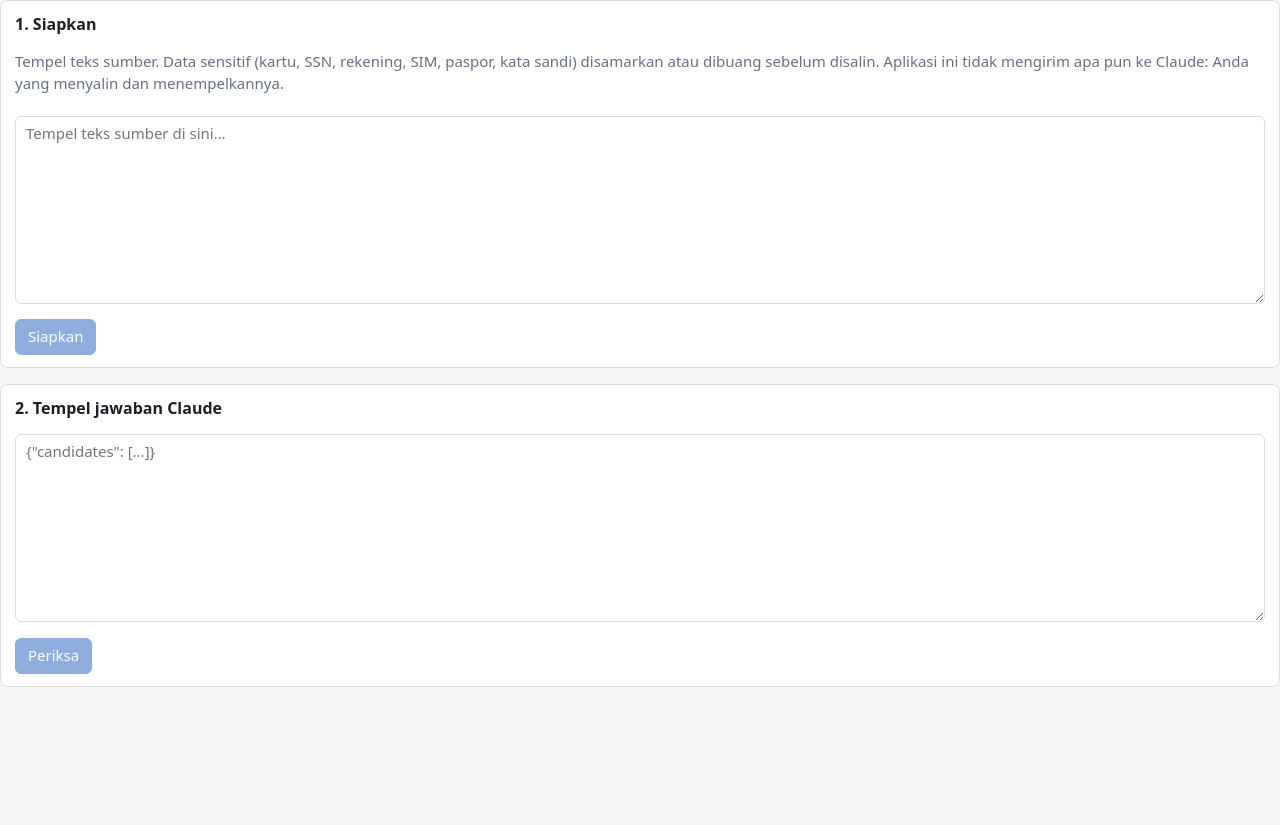
it: BridgeTab › tells the person when copying is not possible
Step 1. Type "src" into the text box labelled "teks sumber" → x=640, y=210, box [15,116,1265,304]
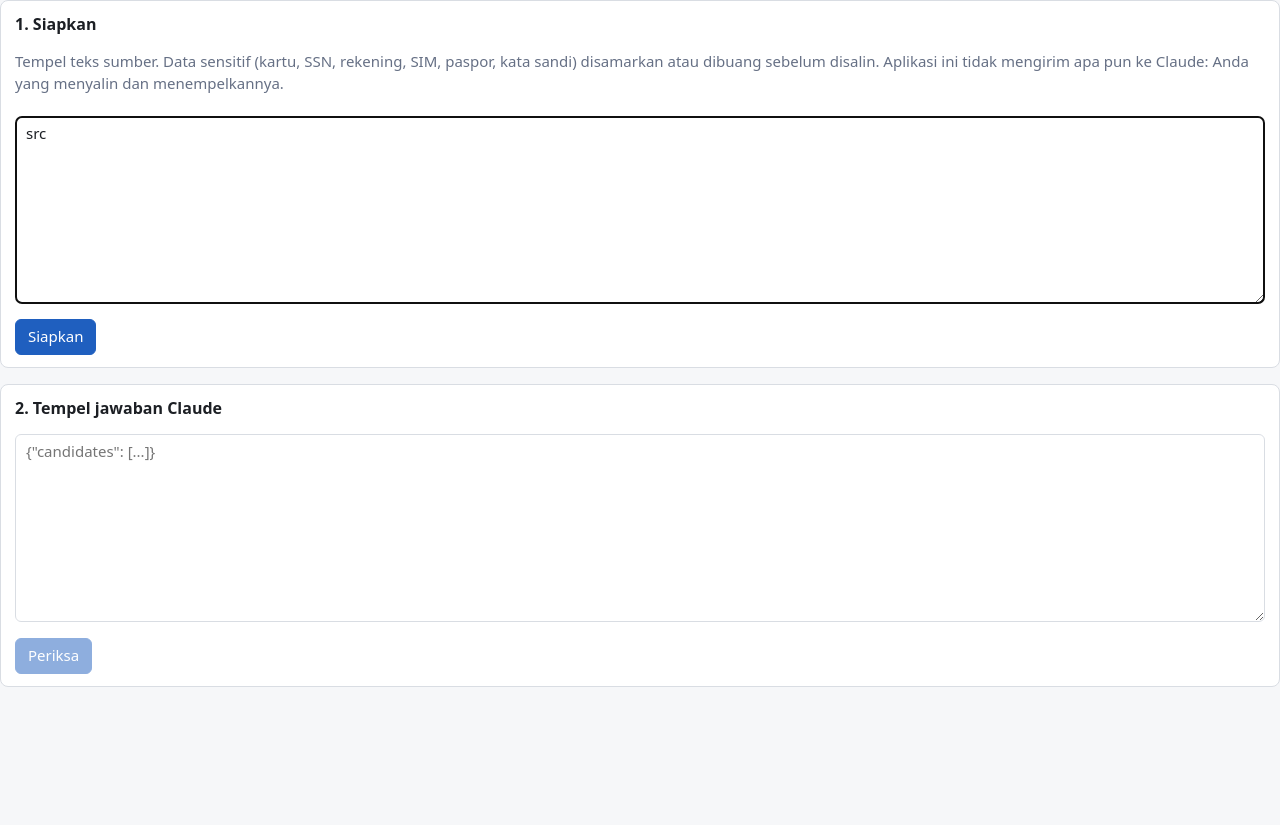
Step 2. Click the button "Siapkan" → x=56, y=337, box [15,319,96,355]
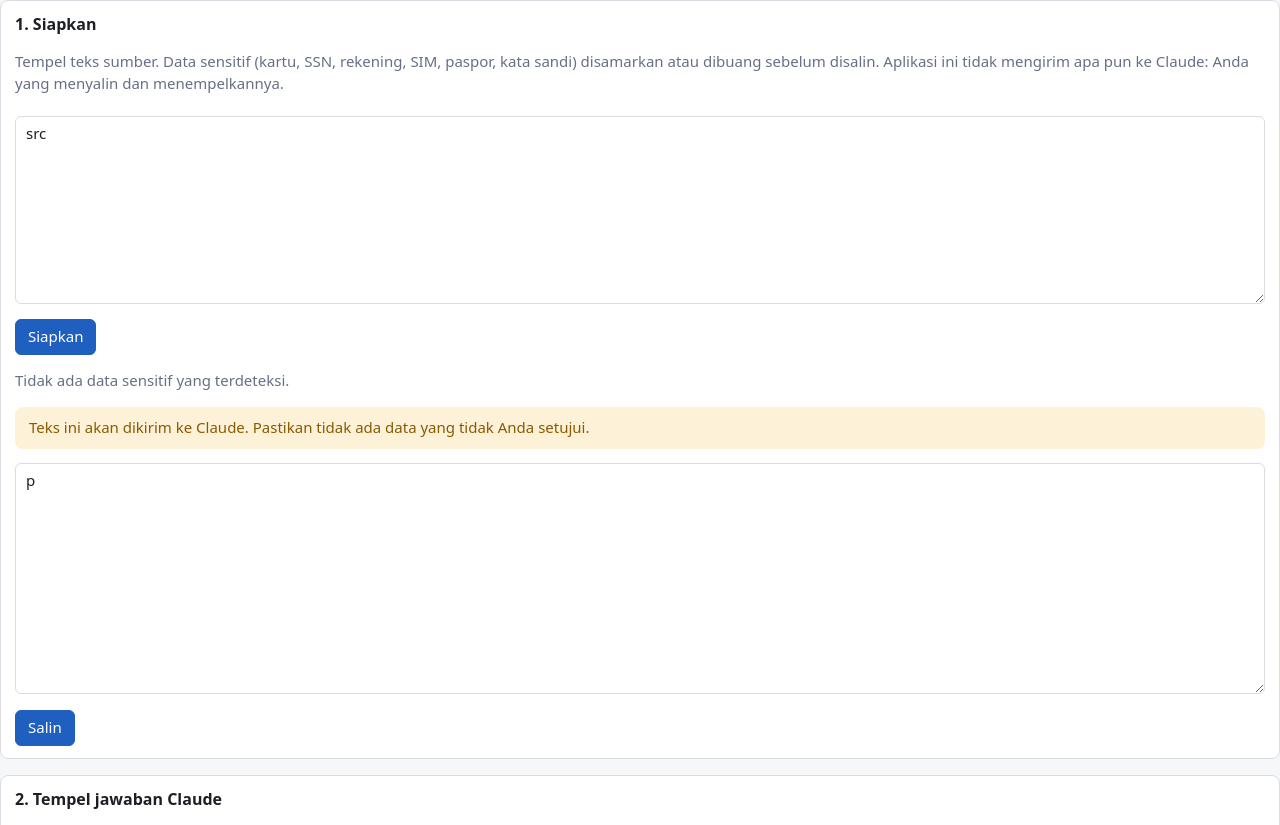
Step 3. Click the button "Salin" → x=45, y=728, box [15,710,75,746]
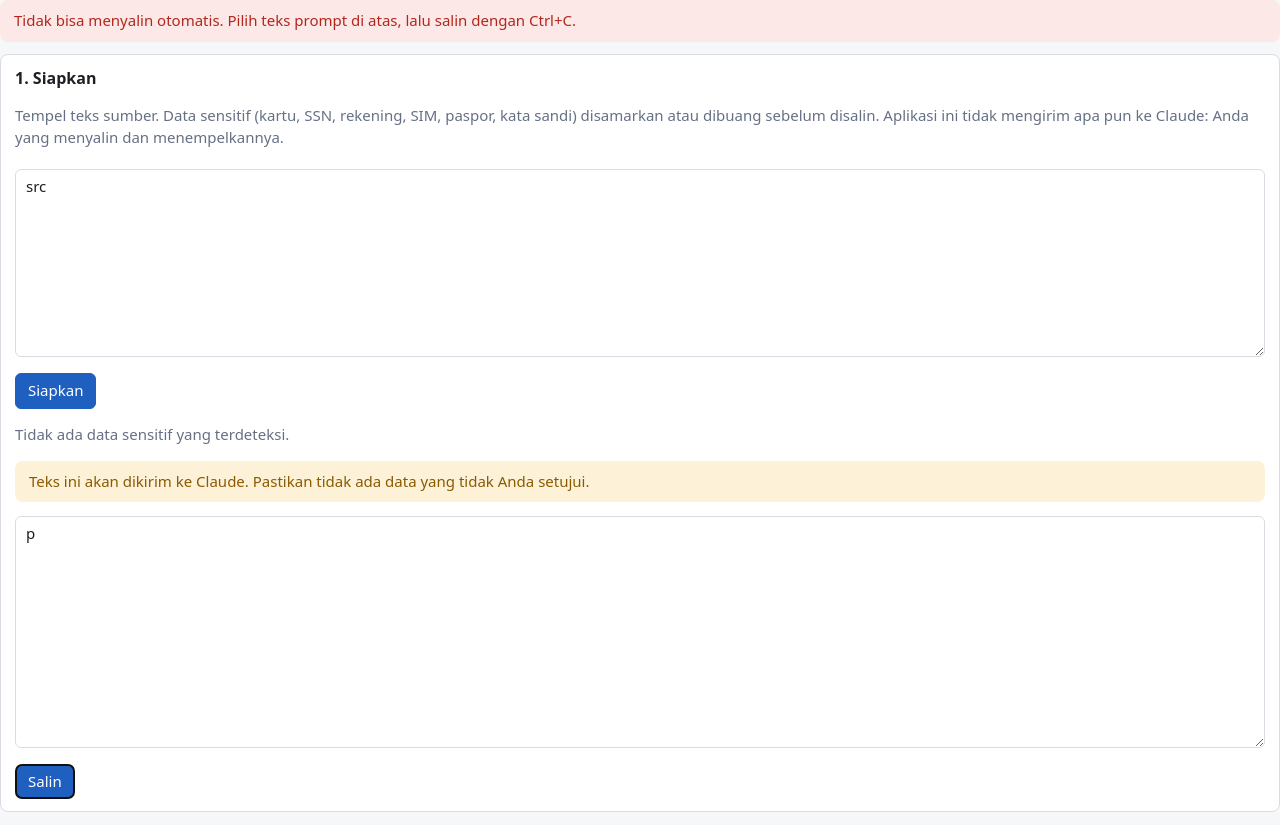
Expected: the text "Tidak bisa menyalin otomatis" is shown, [14,10,576,30]
